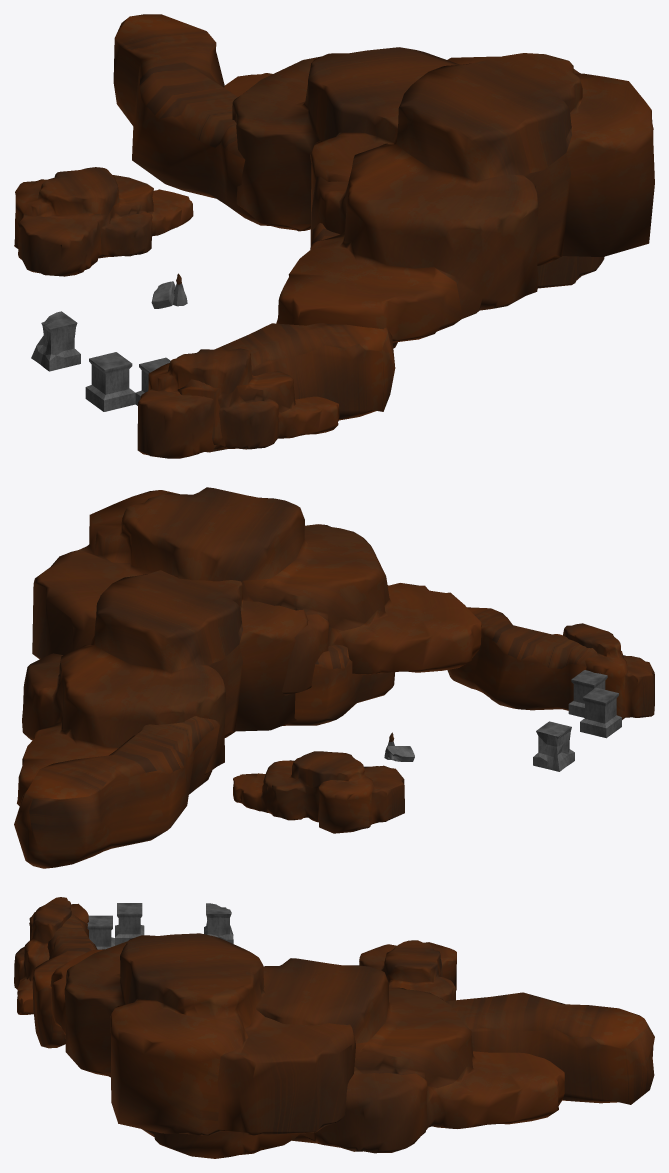
The model's file is LV1Walls.fbx.
3 views of the same model, one above another, from view 1: azimuth 30°, elevation 25°; view 2: azimuth 150°, elevation 25°; view 3: azimuth 270°, elevation 25° (orthographic). The views are drawn at different scales.
Visible parts, largest first — view 1: pCube94; view 2: pCube94; view 3: pCube94.
Part boxes in pixels (<box>): pCube94: <box>14,14,654,458</box>; pCube94: <box>14,487,654,868</box>; pCube94: <box>14,897,654,1158</box>.
Size of the model in its own units: 43.57 by 14.61 by 50.99.
